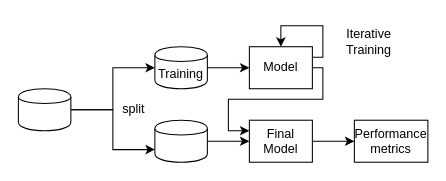
This 446x181 diagram has some shape labels left out. Each missing label, with the box of its shape:
Dataset: (17, 88, 71, 131)
Testing: (154, 119, 207, 162)
